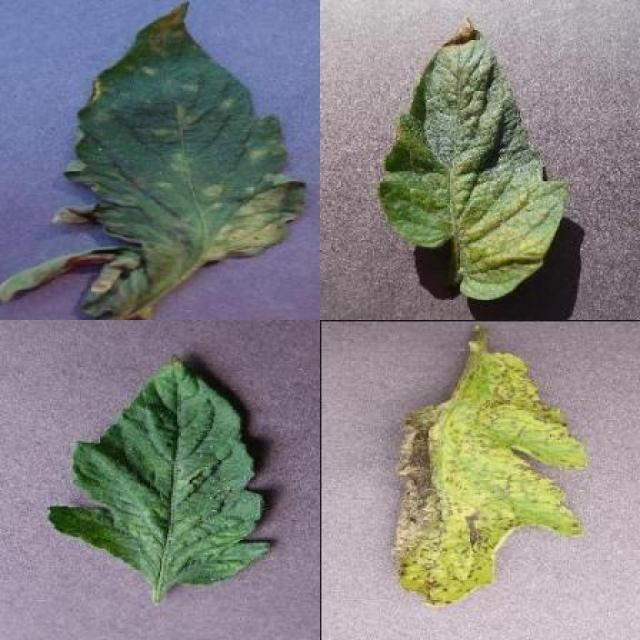Leaf Mold: (54, 0, 309, 320)
Mosaic Virus: (45, 356, 275, 590)
Septoria: (392, 352, 588, 612)
Spider Mites: (378, 16, 568, 301)
